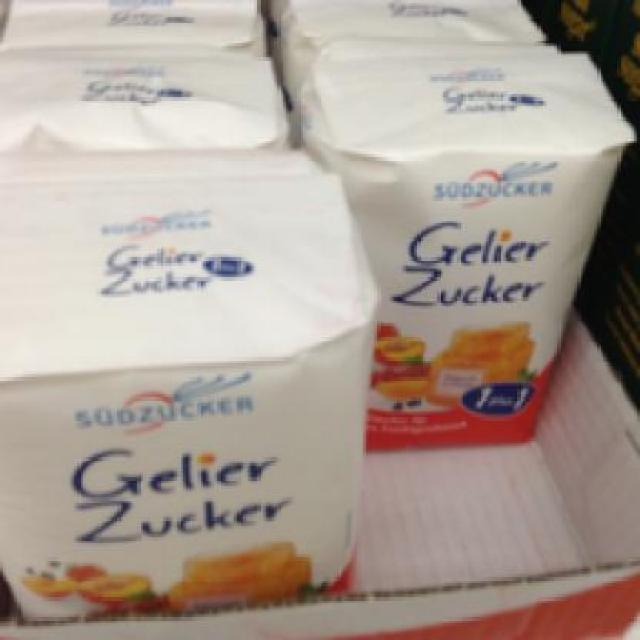Sugar: (0, 154, 375, 620), (302, 39, 628, 454)
